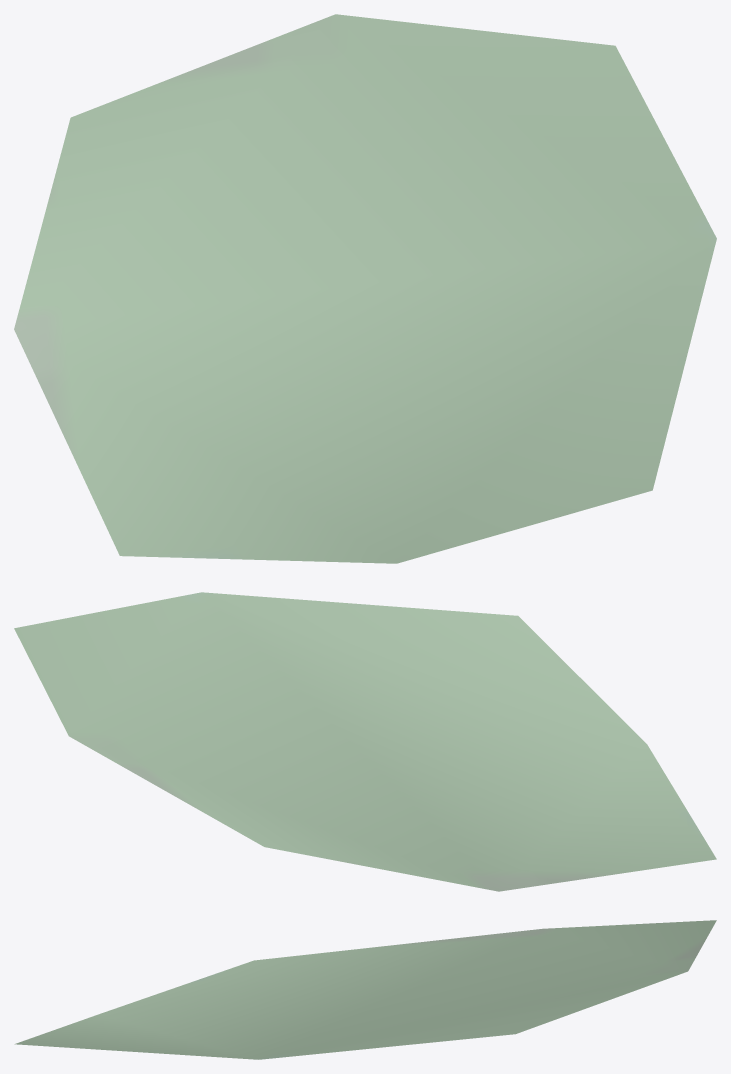
File: TROLLHOLE02_HOLECAP124.fbx
3 renders of one model, top to bottom at view 1: azimuth 30°, elevation 25°; view 2: azimuth 150°, elevation 25°; view 3: azimuth 270°, elevation 25°, orthographic. The views are drawn at different scales.
Visible parts, largest first — view 1: TROLLHOLE02_HOLECAP124; view 2: TROLLHOLE02_HOLECAP124; view 3: TROLLHOLE02_HOLECAP124.
Part boxes in pixels (box(x1,y1,x2,y2)): TROLLHOLE02_HOLECAP124: box(14, 14, 716, 563); TROLLHOLE02_HOLECAP124: box(14, 592, 716, 891); TROLLHOLE02_HOLECAP124: box(14, 920, 716, 1059).
Size of the model in its own units: 17049 by 5672 by 19690.
Materials: 1 (1 with a texture image).
